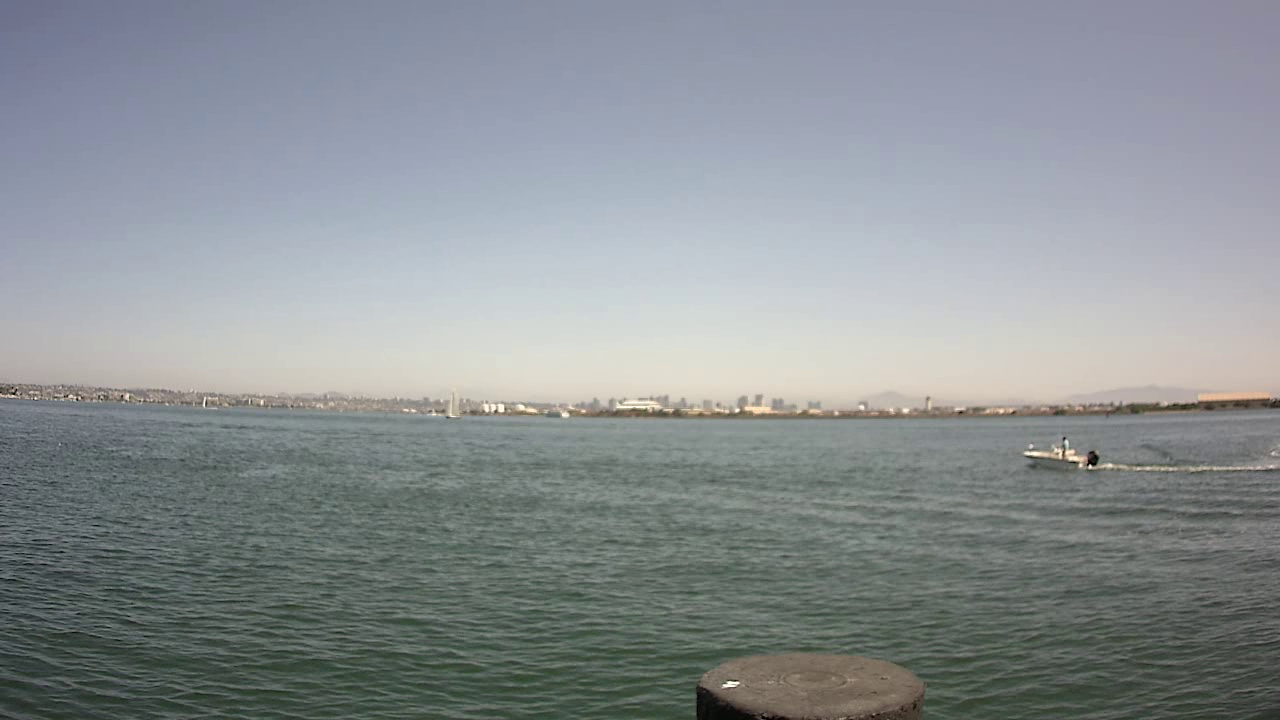target: (1013, 427, 1106, 472)
